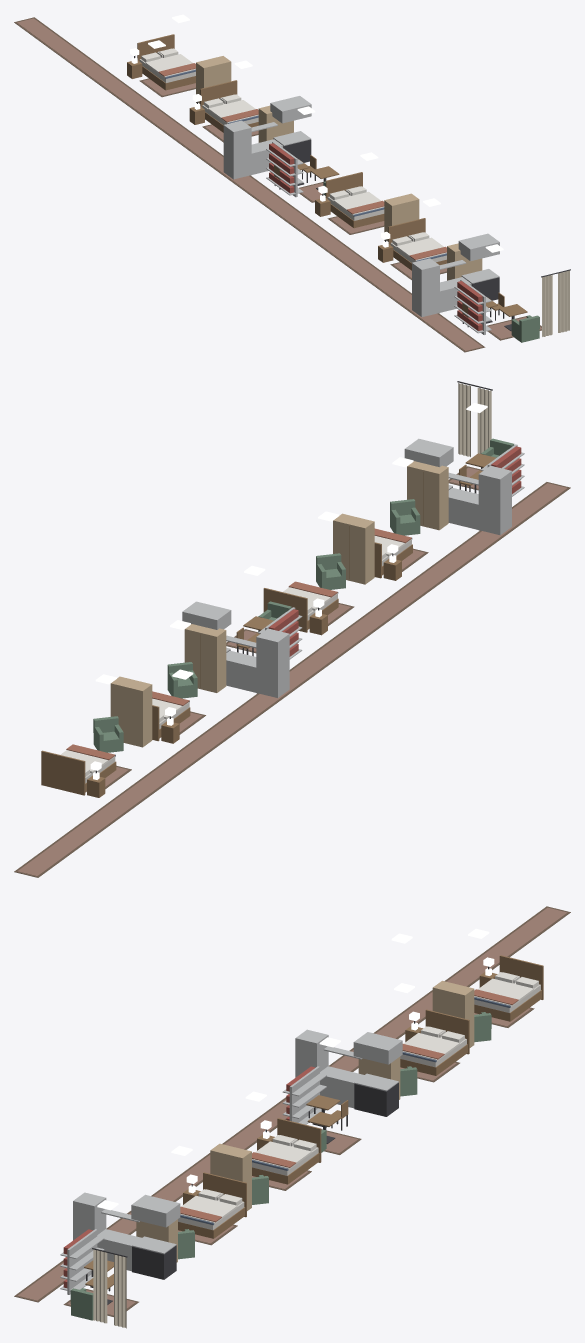
The model's file is fine-s1.glb.
3 renders of one model, top to bottom at view 1: azimuth 30°, elevation 25°; view 2: azimuth 150°, elevation 25°; view 3: azimuth 330°, elevation 25°, orthographic. The views are drawn at different scales.
Visible parts, largest first — view 1: soft-s1, fridge.000, range.001, range.000, fridge.001, bed-frame.002, shelving.002, shelving.001, bed-frame.000, bed-frame.001, dresser.002, bed-frame.003 (+6 smaller); view 2: soft-s1, dresser.000, dresser.002, dresser.001, dresser.003, fridge.001, fridge.000, bed-frame.000, kitchen-counter.000, kitchen-counter.001, bed-frame.002, range.000 (+7 smaller); view 3: soft-s1, range.000, range.001, bed-frame.000, bed-frame.002, bed-frame.001, bed-frame.003, shelving.002, shelving.001, dresser.000, dresser.002, kitchen-counter.000 (+6 smaller).
Part boxes in pixels (x1,y1,x2,y2): soft-s1: [14, 17, 570, 352]; fridge.000: [223, 120, 251, 179]; range.001: [458, 233, 499, 300]; range.000: [270, 96, 311, 162]; fridge.001: [412, 258, 439, 316]; bed-frame.002: [325, 172, 384, 228]; shelving.002: [454, 279, 491, 334]; shelving.001: [266, 141, 303, 197]; bed-frame.000: [137, 34, 195, 90]; bed-frame.001: [200, 80, 258, 132]; dresser.002: [384, 193, 419, 241]; bed-frame.003: [388, 218, 446, 270]; soft-s1: [14, 381, 570, 877]; dresser.000: [110, 676, 152, 747]; dresser.002: [333, 513, 374, 584]; dresser.001: [184, 624, 226, 692]; dresser.003: [407, 461, 448, 530]; fridge.001: [478, 465, 511, 535]; fridge.000: [256, 628, 289, 697]; bed-frame.000: [41, 750, 116, 795]; kitchen-counter.000: [226, 635, 256, 692]; kitchen-counter.001: [448, 472, 478, 529]; bed-frame.002: [263, 588, 338, 632]; range.000: [182, 601, 231, 652]; soft-s1: [14, 906, 570, 1328]; range.000: [353, 1032, 402, 1116]; range.001: [131, 1194, 180, 1279]; bed-frame.000: [474, 955, 543, 1021]; bed-frame.002: [252, 1118, 321, 1184]; bed-frame.001: [400, 1009, 469, 1075]; bed-frame.003: [178, 1172, 246, 1238]; shelving.002: [60, 1229, 104, 1294]; shelving.001: [282, 1066, 326, 1124]; dresser.000: [432, 980, 474, 1047]; dresser.002: [210, 1143, 251, 1210]; kitchen-counter.000: [320, 1046, 364, 1108].
Bounding box in the file's own units: 4.43 × 3.07 × 34.66.
